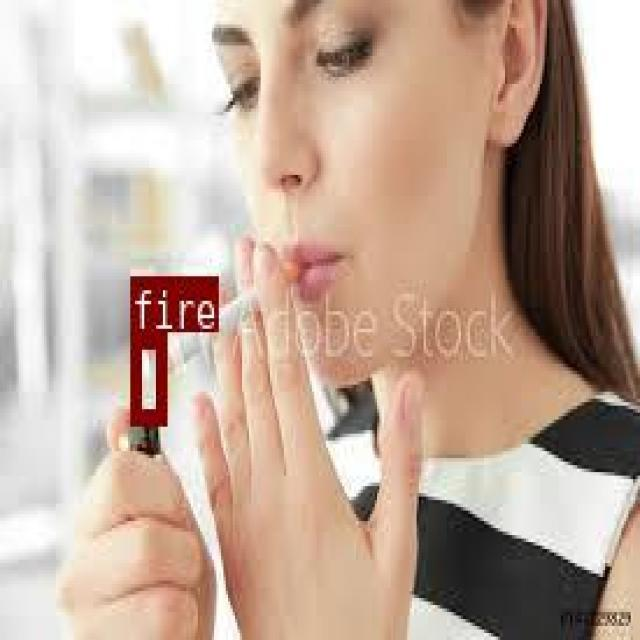fire: (129, 331, 164, 421)
